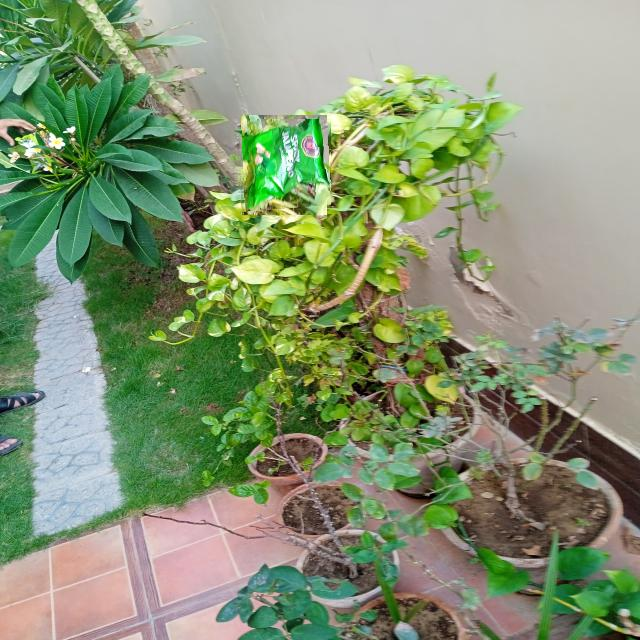Plastic: (237, 119, 331, 212)
